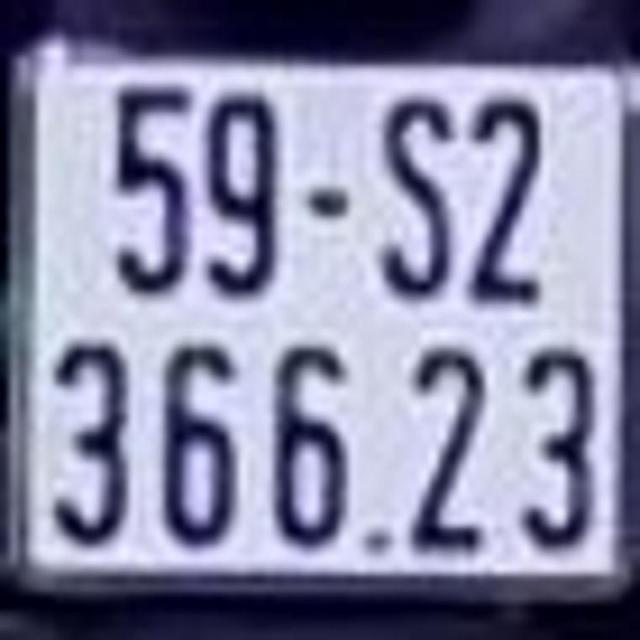2: (407, 354, 492, 543), (470, 100, 540, 302)
3: (50, 346, 129, 544), (524, 346, 592, 541)
5: (116, 85, 193, 288)
6: (272, 348, 348, 540), (165, 344, 235, 539)
9: (206, 89, 277, 296)
S: (380, 100, 450, 287)
